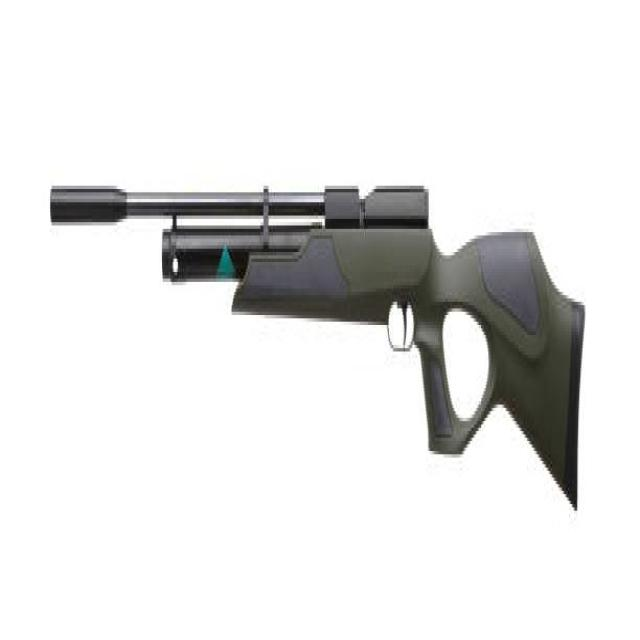rifle: (48, 158, 590, 535)
